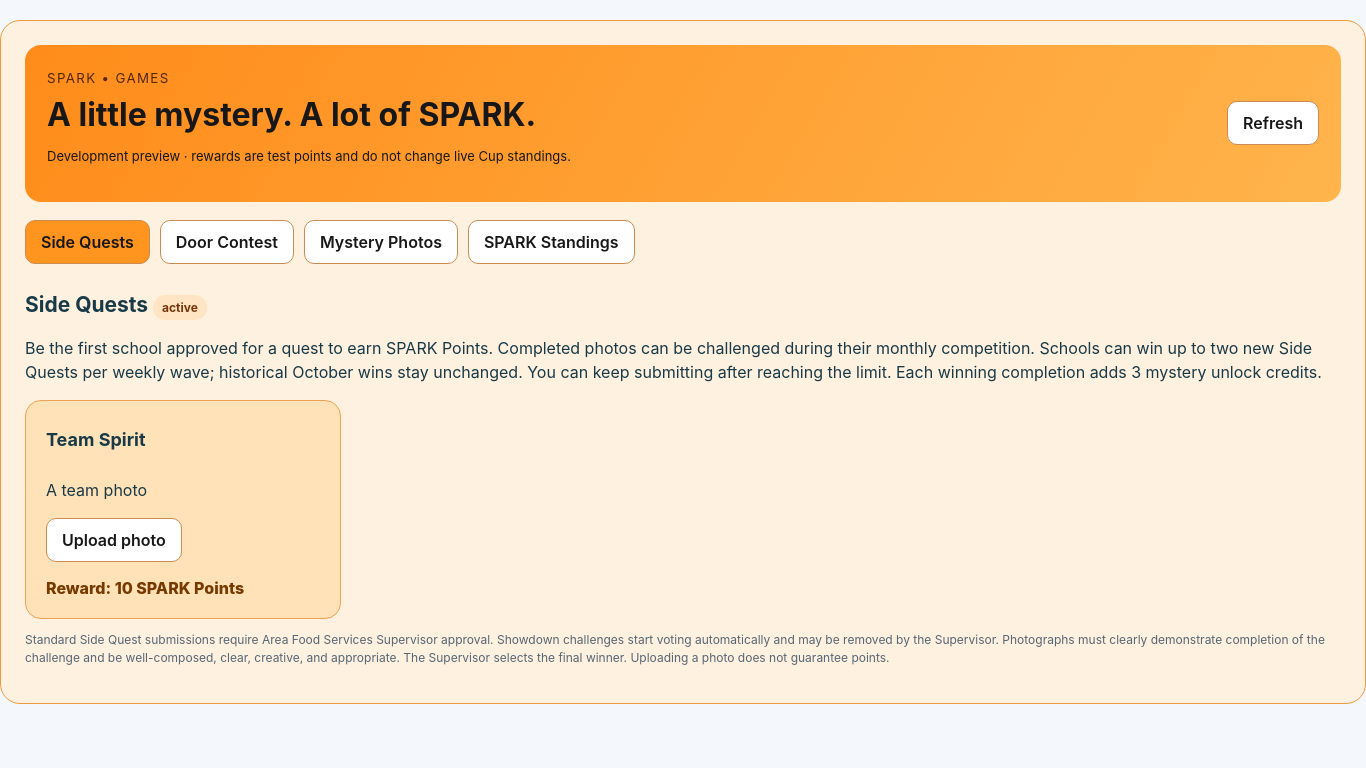
it: manager sees 28 named blank frames and no supervisor controls
Click the button "Door Contest": [227, 242] box [160,220,294,264]
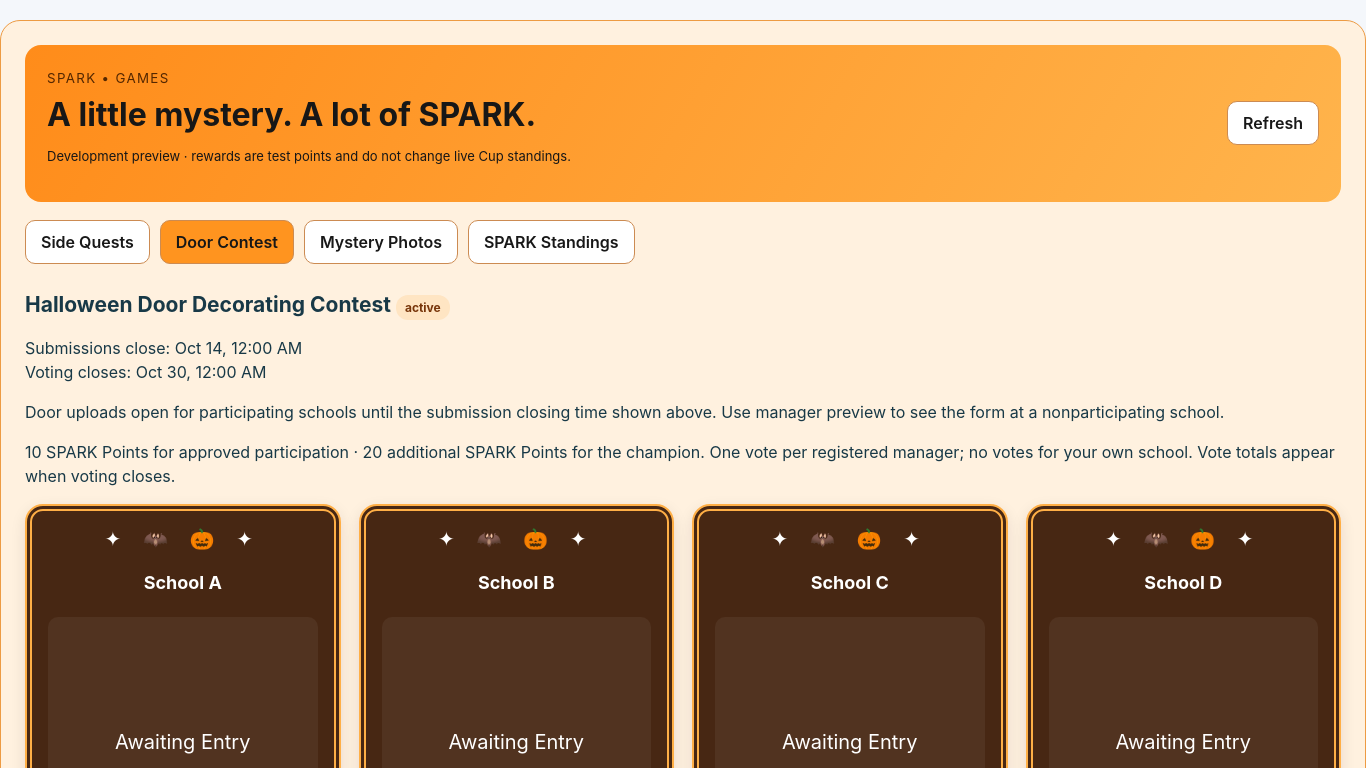
Expected: the number of elements with class "og-door" is 28
